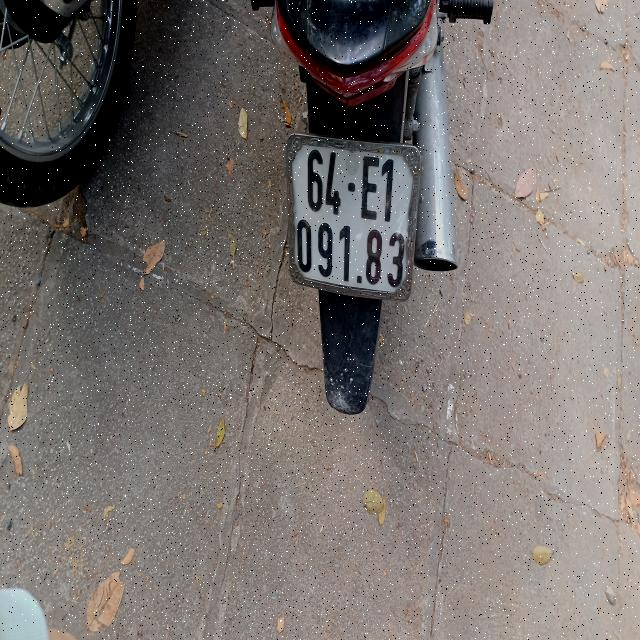0: (296, 217, 314, 273)
1: (380, 157, 395, 225), (338, 222, 353, 281)
3: (388, 229, 405, 285)
4: (326, 150, 342, 217)
6: (306, 148, 324, 215)
8: (367, 230, 383, 286)
9: (317, 220, 333, 278)
E: (360, 154, 379, 220)
